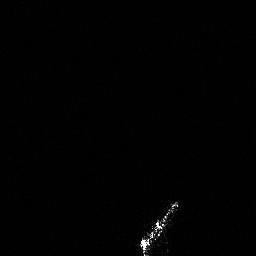ship: (136, 197, 181, 256)
